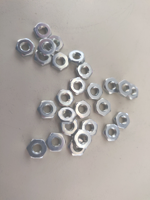nut: (26, 139, 47, 159), (38, 100, 58, 119), (15, 39, 36, 57), (33, 22, 53, 40), (47, 134, 66, 152), (51, 52, 69, 71), (94, 99, 112, 117), (103, 123, 120, 142), (58, 107, 76, 124), (58, 89, 75, 107), (75, 101, 92, 119), (81, 119, 98, 137), (86, 82, 103, 100), (70, 77, 87, 95), (38, 37, 56, 54), (76, 130, 92, 149), (62, 119, 79, 136), (69, 139, 86, 156), (76, 62, 93, 79), (49, 35, 66, 52), (114, 112, 130, 129), (104, 77, 119, 95), (118, 79, 133, 97), (35, 50, 51, 66), (70, 50, 86, 65), (129, 84, 139, 101)
